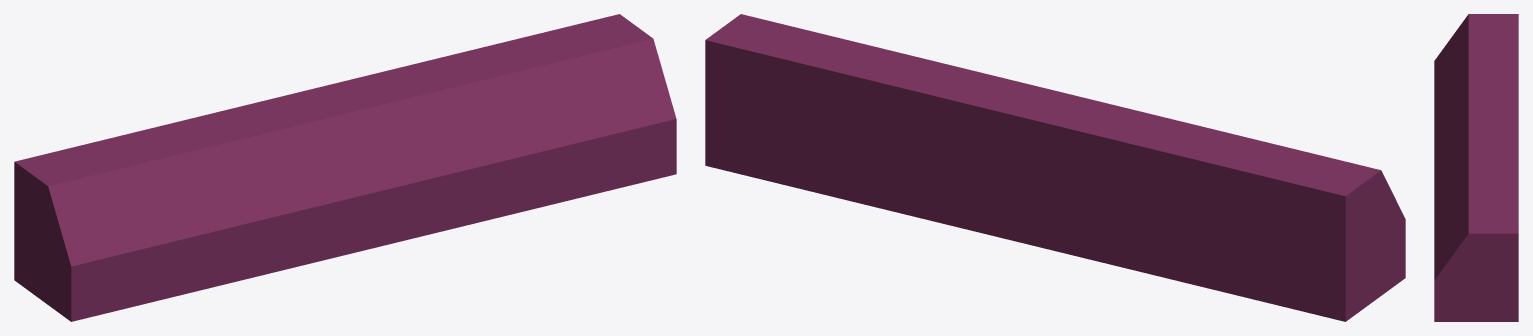
File: SM_BLD_BASEWALL_02.fbx
The picture shows the model from 3 angles, left to right: view 1: azimuth 30°, elevation 25°; view 2: azimuth 150°, elevation 25°; view 3: azimuth 270°, elevation 25°; orthographic projection. The views are drawn at different scales.
Parts seen in each view (by area): view 1: SM_BLD_BASEWALL_02; view 2: SM_BLD_BASEWALL_02; view 3: SM_BLD_BASEWALL_02.
Boxes of the visible parts, x1,y1,x2,y2 form: SM_BLD_BASEWALL_02: [14, 14, 676, 321]; SM_BLD_BASEWALL_02: [705, 14, 1405, 321]; SM_BLD_BASEWALL_02: [1434, 14, 1518, 321].
Size of the model in its own units: 4 by 0.75 by 0.65.
